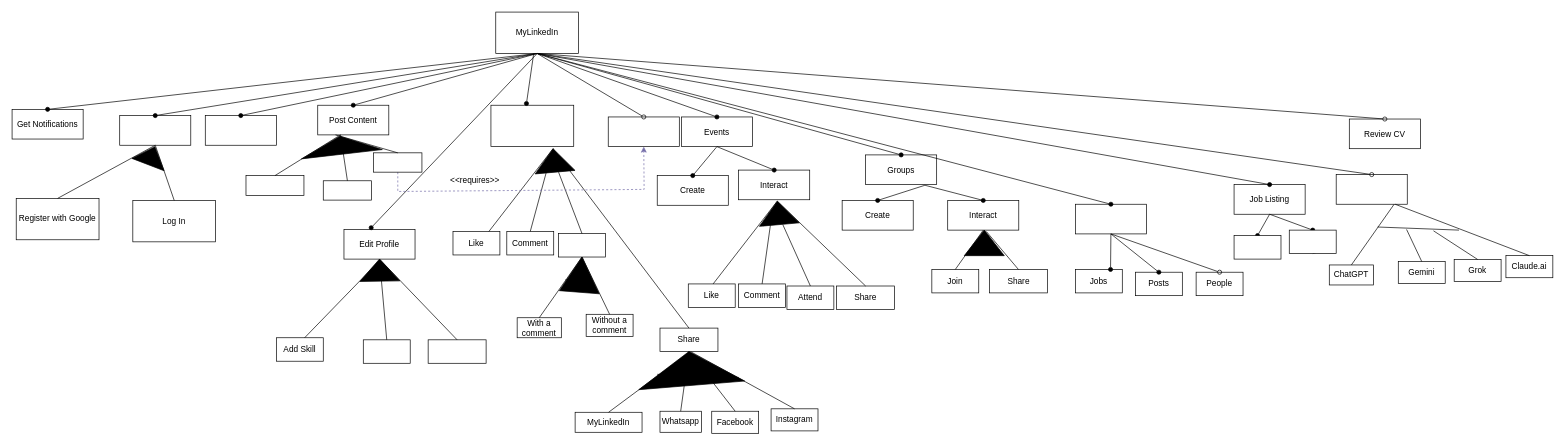
Some shapes in this 1565 by 446 pixel diagram are drawn without their labels. The box of each missing label's shape, as (x1, y1, x2, y2) in pixels:
Add Contact: (205, 115, 276, 145)
AI Assistant: (1335, 174, 1407, 204)
Change Name: (363, 339, 410, 363)
Change Picture: (427, 339, 486, 363)
Interact with Post: (490, 105, 574, 147)
Post: (1233, 235, 1281, 259)
Reggister: (119, 115, 191, 145)
Reply: (1289, 229, 1336, 254)
Repost: (558, 233, 605, 257)
Search: (1075, 204, 1146, 234)
Send GIFs: (608, 116, 679, 147)
With Event: (245, 175, 304, 196)
With GIF: (373, 152, 422, 172)
With Image: (323, 180, 372, 200)
